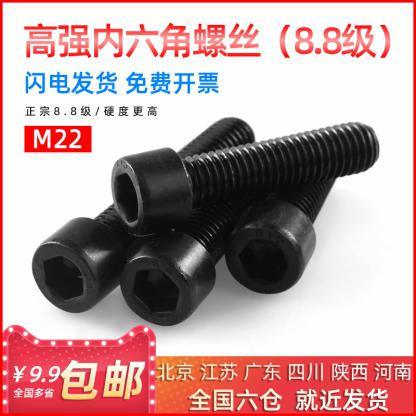FOD: (32, 116, 258, 313), (118, 142, 283, 324), (108, 122, 382, 231), (226, 135, 347, 296)
